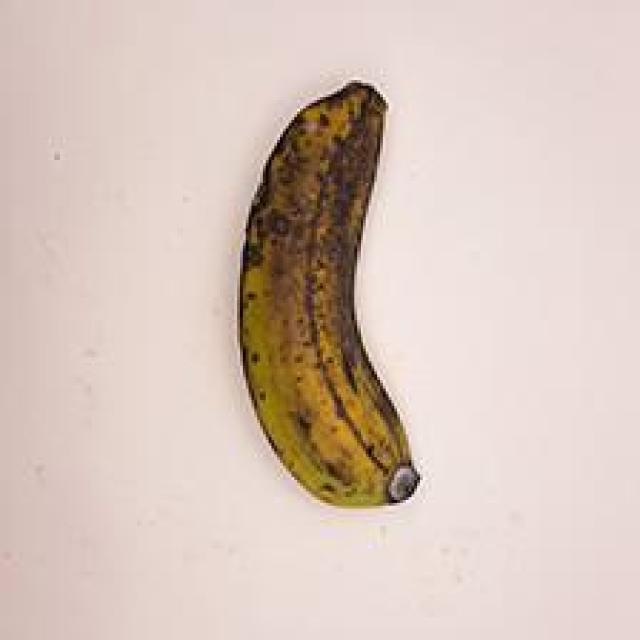Overripe: (194, 62, 458, 528)
